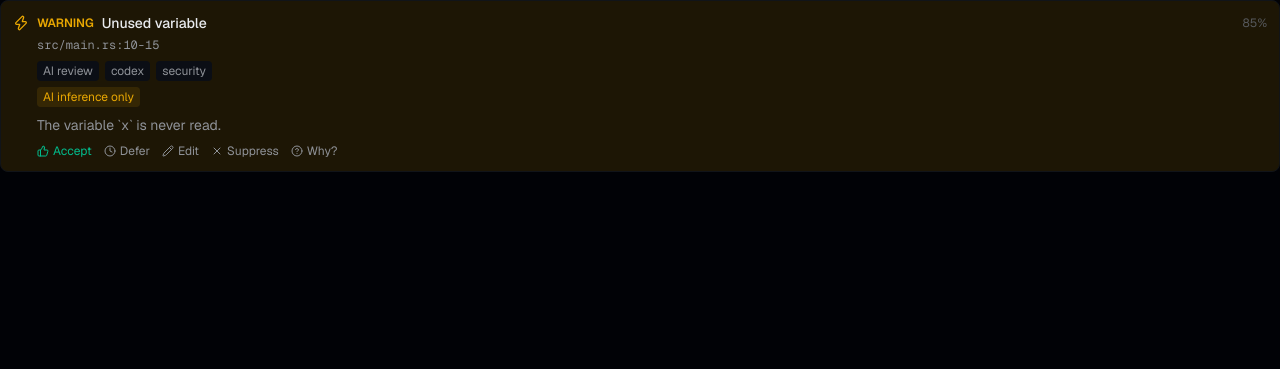
Scenario: FindingCard › renders Why? button and explanation panel when explain_json is set
Click the button "Why?" at (314, 151), box [291, 143, 338, 159]
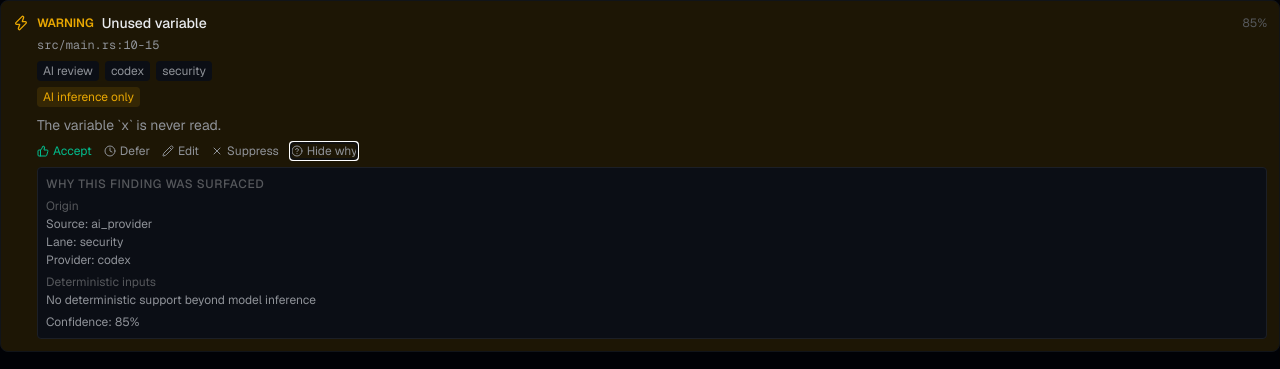
Check: the text "Why this finding was surfaced" is shown, box [46, 176, 264, 192]
Check: the text "Origin" is shown, box [46, 198, 79, 214]
Check: the text "Source: ai_provider" is shown, box [46, 216, 152, 232]
